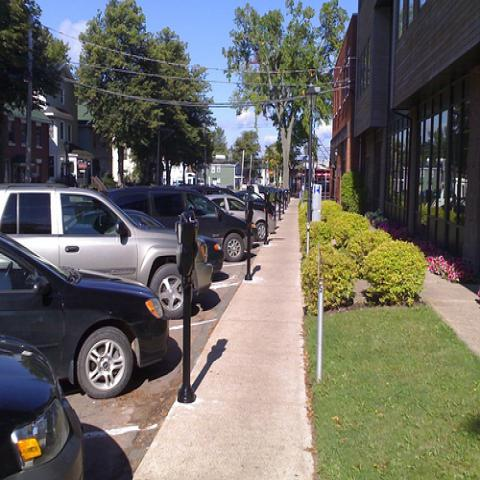car: (0, 184, 212, 317), (1, 236, 175, 388), (100, 186, 254, 264), (0, 343, 86, 475), (124, 210, 224, 278), (205, 194, 245, 222), (235, 190, 274, 215), (258, 185, 284, 212), (252, 211, 276, 240)
